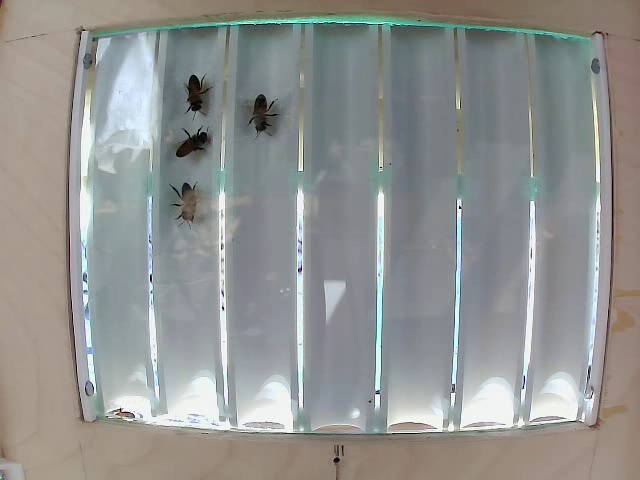bee: (186, 119, 223, 165), (171, 170, 198, 230), (242, 97, 273, 135), (180, 74, 210, 113)
